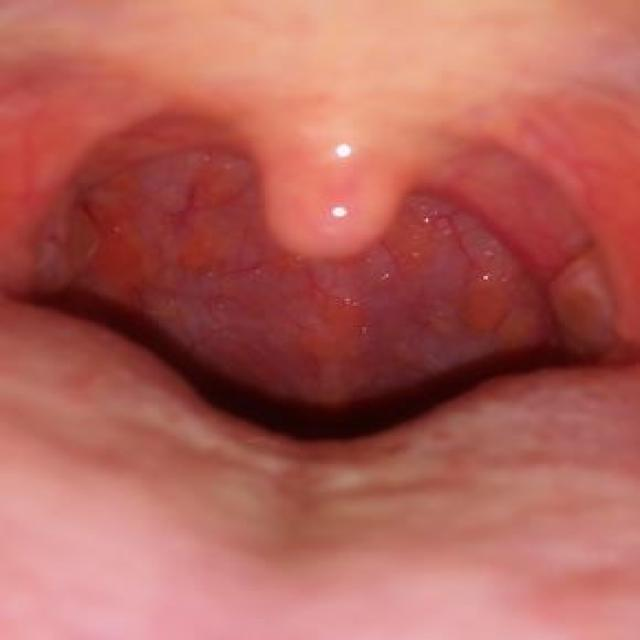Non Pharyngitis: (79, 144, 640, 393)
